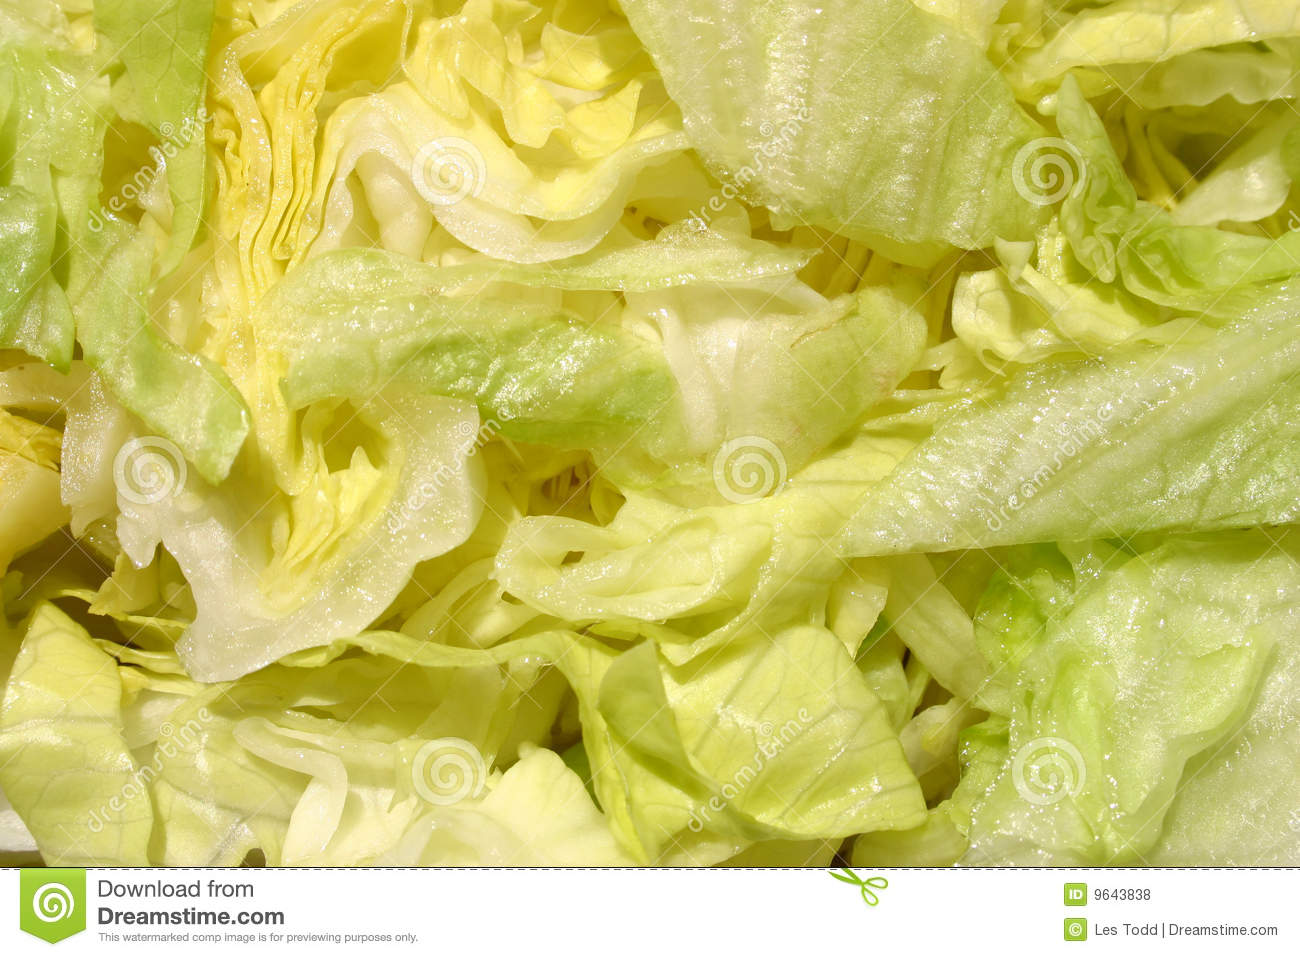chopped lettuce: (67, 51, 1223, 808)
